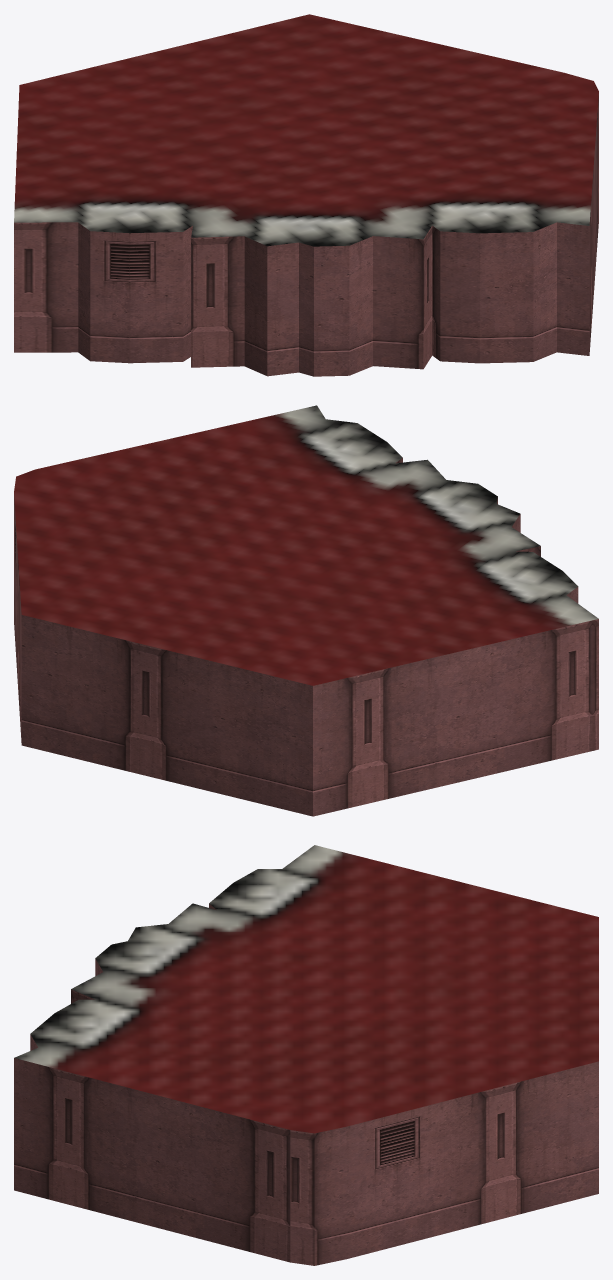
File: hardened_roof39.glb
3 views of the same model, one above another, from view 1: azimuth 30°, elevation 25°; view 2: azimuth 150°, elevation 25°; view 3: azimuth 270°, elevation 25° (orthographic).
Visible parts, largest first — view 1: buildings/saxarba/hard/hardened_roof39; view 2: buildings/saxarba/hard/hardened_roof39; view 3: buildings/saxarba/hard/hardened_roof39.
Part boxes in pixels (x1,y1,x2,y2): buildings/saxarba/hard/hardened_roof39: [14, 14, 598, 376]; buildings/saxarba/hard/hardened_roof39: [14, 405, 598, 816]; buildings/saxarba/hard/hardened_roof39: [14, 845, 598, 1265].
Bounding box in the file's own units: 84 × 18 × 72.
